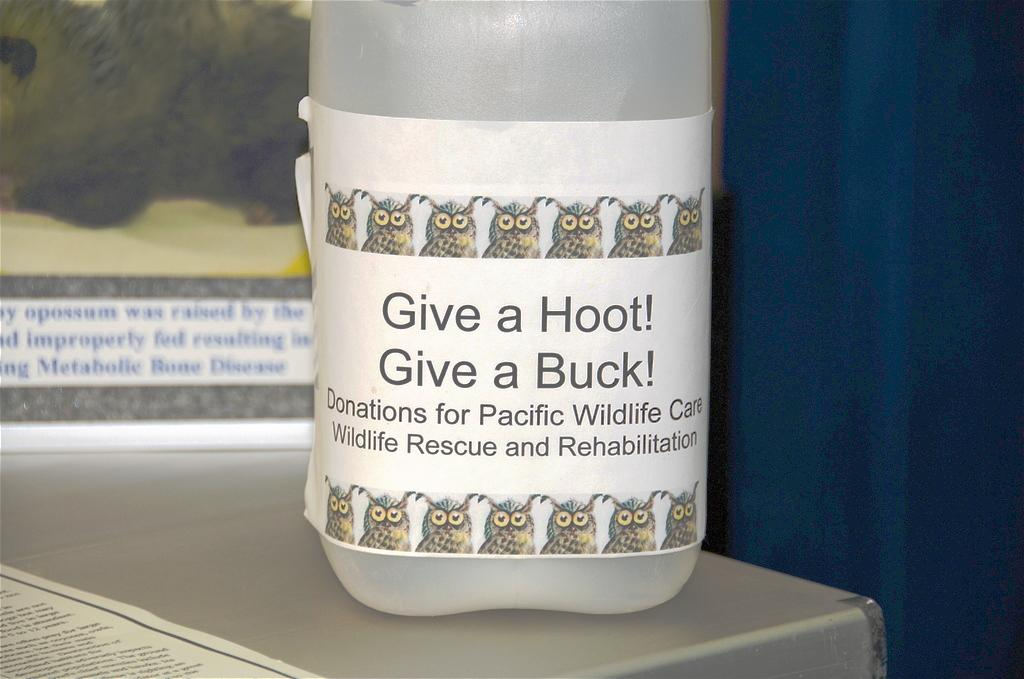Sheep: (600, 489, 663, 554), (604, 194, 667, 258), (475, 493, 539, 555), (418, 194, 480, 257), (542, 196, 605, 258), (481, 196, 543, 259), (538, 493, 602, 554), (355, 487, 416, 551), (415, 492, 477, 552), (364, 190, 415, 255), (668, 188, 712, 255), (659, 480, 700, 550), (319, 470, 357, 543), (323, 186, 361, 253)
